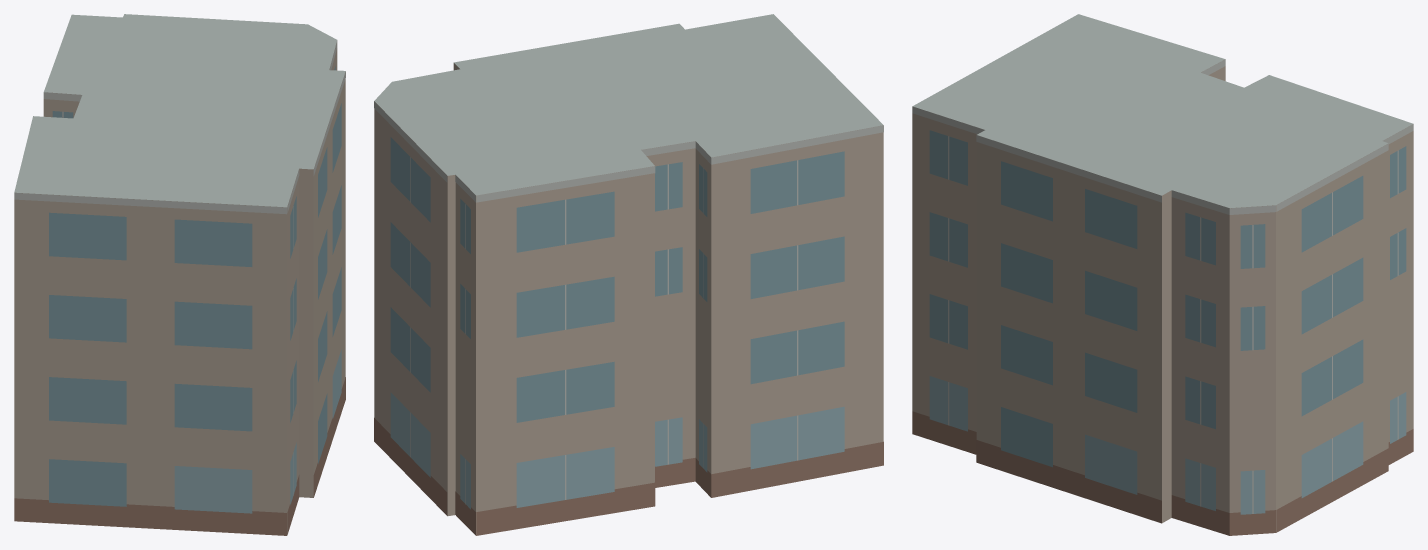
File: survey-upis-32574830.glb
3 renders of one model, left to right at view 1: azimuth 30°, elevation 25°; view 2: azimuth 150°, elevation 25°; view 3: azimuth 270°, elevation 25°, orthographic. The views are drawn at different scales.
Visible parts, largest first — view 1: survey-upis-32574830.tmp; view 2: survey-upis-32574830.tmp; view 3: survey-upis-32574830.tmp.
Boxes of the visible parts, left/top/right/bottom form: survey-upis-32574830.tmp: left=14, top=14, right=345, bottom=535; survey-upis-32574830.tmp: left=374, top=14, right=883, bottom=535; survey-upis-32574830.tmp: left=912, top=14, right=1413, bottom=535.
Bounding box in the file's own units: 14.75 × 11.6 × 16.09.
